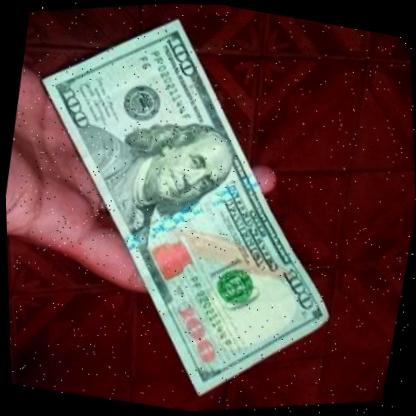one_hundred-front: (0, 0, 396, 416)
